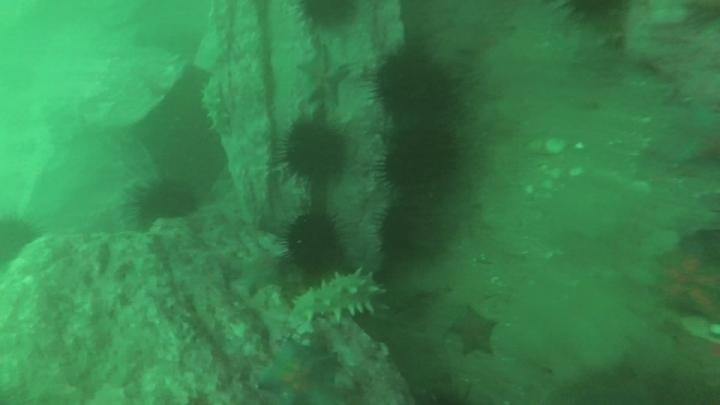echinus: (372, 47, 458, 121), (379, 125, 460, 194), (281, 208, 348, 278), (280, 117, 350, 183), (376, 199, 447, 263), (129, 174, 201, 228), (555, 1, 632, 31), (0, 212, 41, 268), (293, 1, 361, 33), (408, 377, 477, 405)
holothurian: (287, 269, 387, 328), (198, 74, 236, 139)
starfish: (647, 235, 720, 324), (254, 337, 343, 405), (653, 99, 720, 170), (295, 45, 351, 109), (227, 242, 289, 299), (447, 304, 501, 359)
